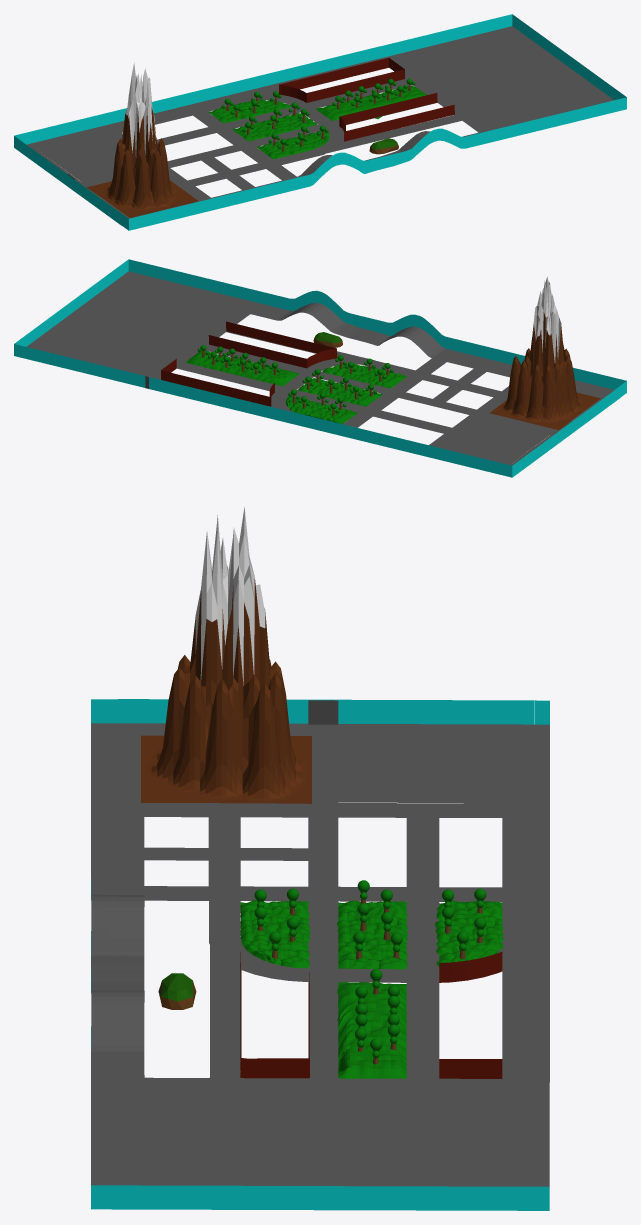
The model's file is CiudadChida.fbx.
3 renders of one model, top to bottom at view 1: azimuth 30°, elevation 25°; view 2: azimuth 150°, elevation 25°; view 3: azimuth 270°, elevation 25°, orthographic. The views are drawn at different scales.
Parts seen in each view (by area): view 1: Plane.004; view 2: Plane.004; view 3: Plane.004.
Boxes of the visible parts, x1,y1,x2,y2 form: Plane.004: (14,14,626,230); Plane.004: (14,259,626,477); Plane.004: (91,507,549,1210).
Bounding box in the file's own units: 27163 × 7138 × 10833.
